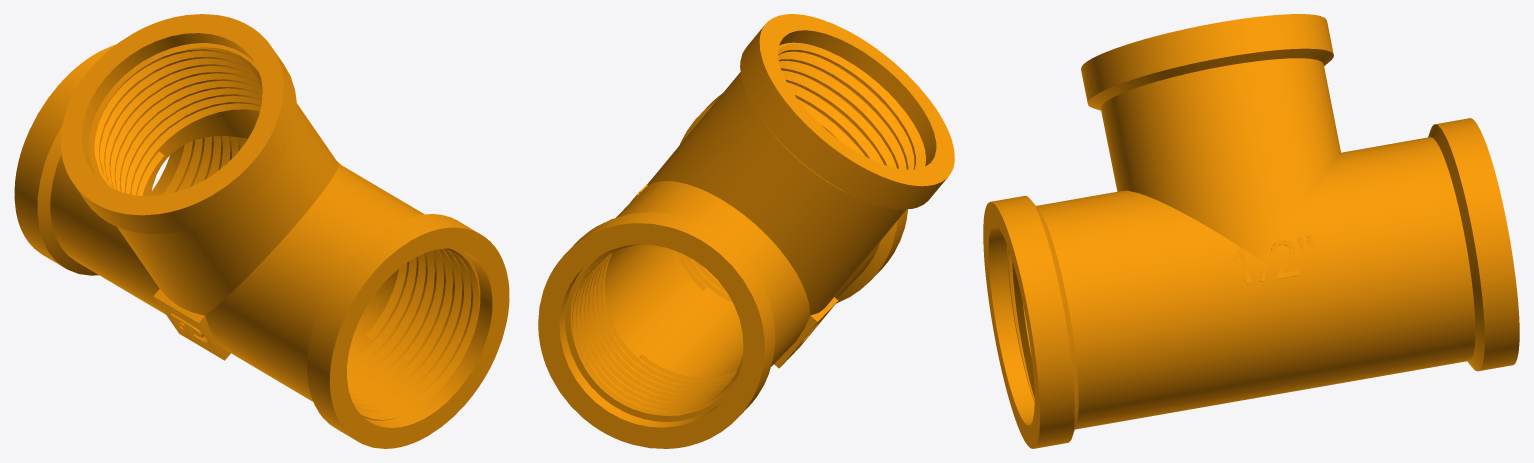
3 renders of one model, left to right at view 1: azimuth 30°, elevation 25°; view 2: azimuth 150°, elevation 25°; view 3: azimuth 270°, elevation 25°, orthographic. The views are drawn at different scales.
Parts seen in each view (by area): view 1: Áîáûøêà-Âûòÿíóòü2; view 2: Áîáûøêà-Âûòÿíóòü2; view 3: Áîáûøêà-Âûòÿíóòü2.
Boxes of the visible parts, x1,y1,x2,y2 form: Áîáûøêà-Âûòÿíóòü2: (14,14,509,448); Áîáûøêà-Âûòÿíóòü2: (538,14,954,448); Áîáûøêà-Âûòÿíóòü2: (983,14,1519,448).
Bounding box in the file's own units: 4.37 × 4.44 × 5.66.
